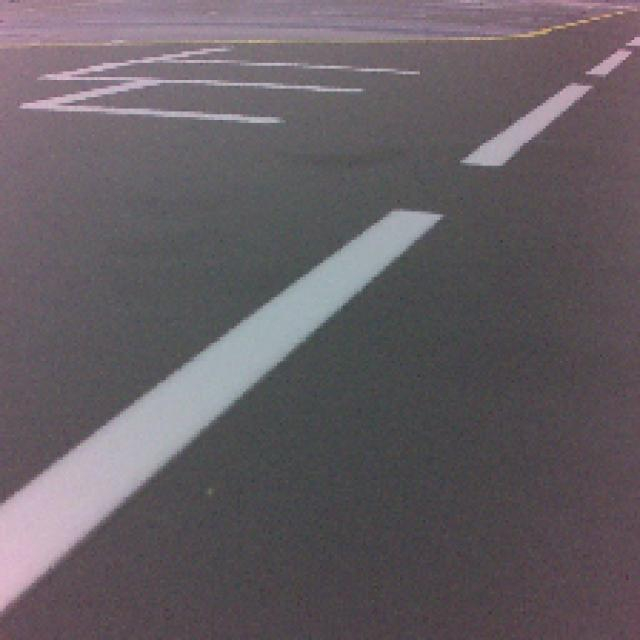Guard rail: (0, 207, 441, 619)
